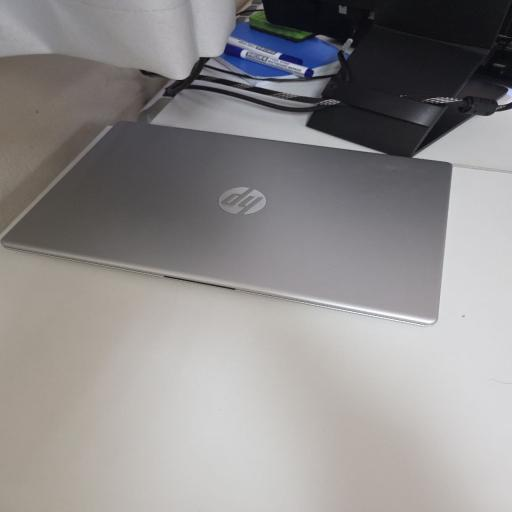glass_wall: (2, 122, 451, 324)
stroller: (0, 168, 511, 511), (152, 91, 374, 151)
